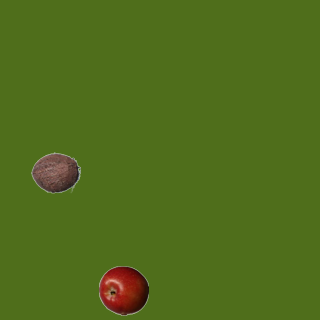Apple Braeburn: (98, 265, 148, 315)
Cocos: (30, 147, 80, 197)
